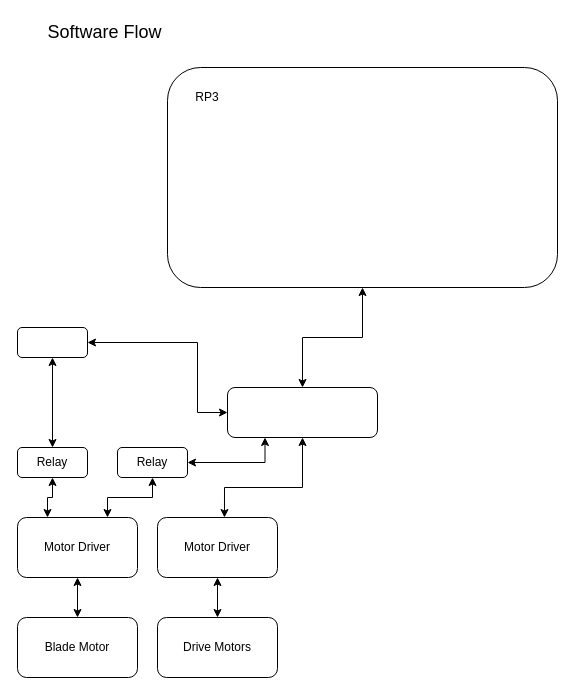
Image size: 575x695. Some labels were removed from this diagram. Each missing label, with the centre of its shape:
"Arduino as ROS Node http://wiki.ros.org/rosserial_arduino" belongs at point (302, 412).
"E Stop" belongs at point (52, 342).
